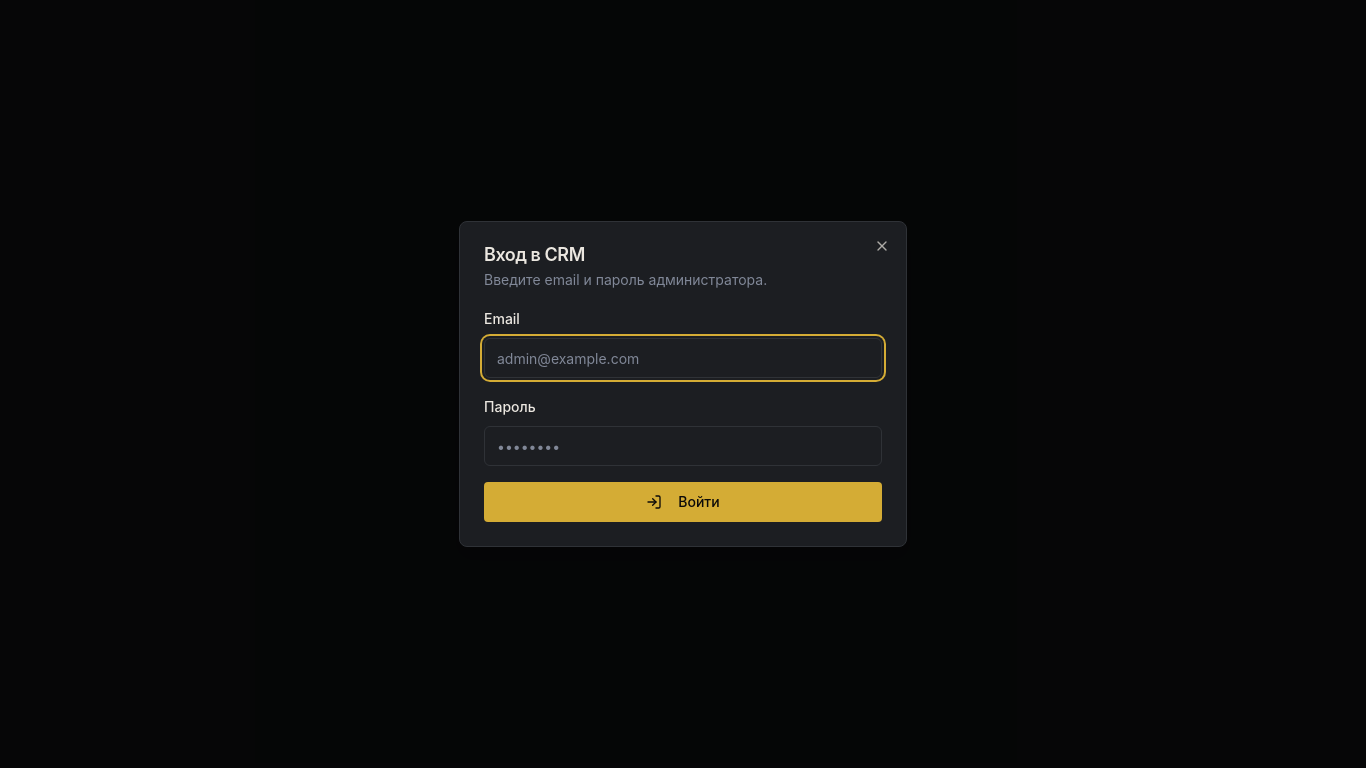
Scenario: CRM login feedback › explains a service outage without asking the user to change a correct password
Type "admin@example.test" into the field labelled "Email" at (683, 358), box [484,338,882,378]
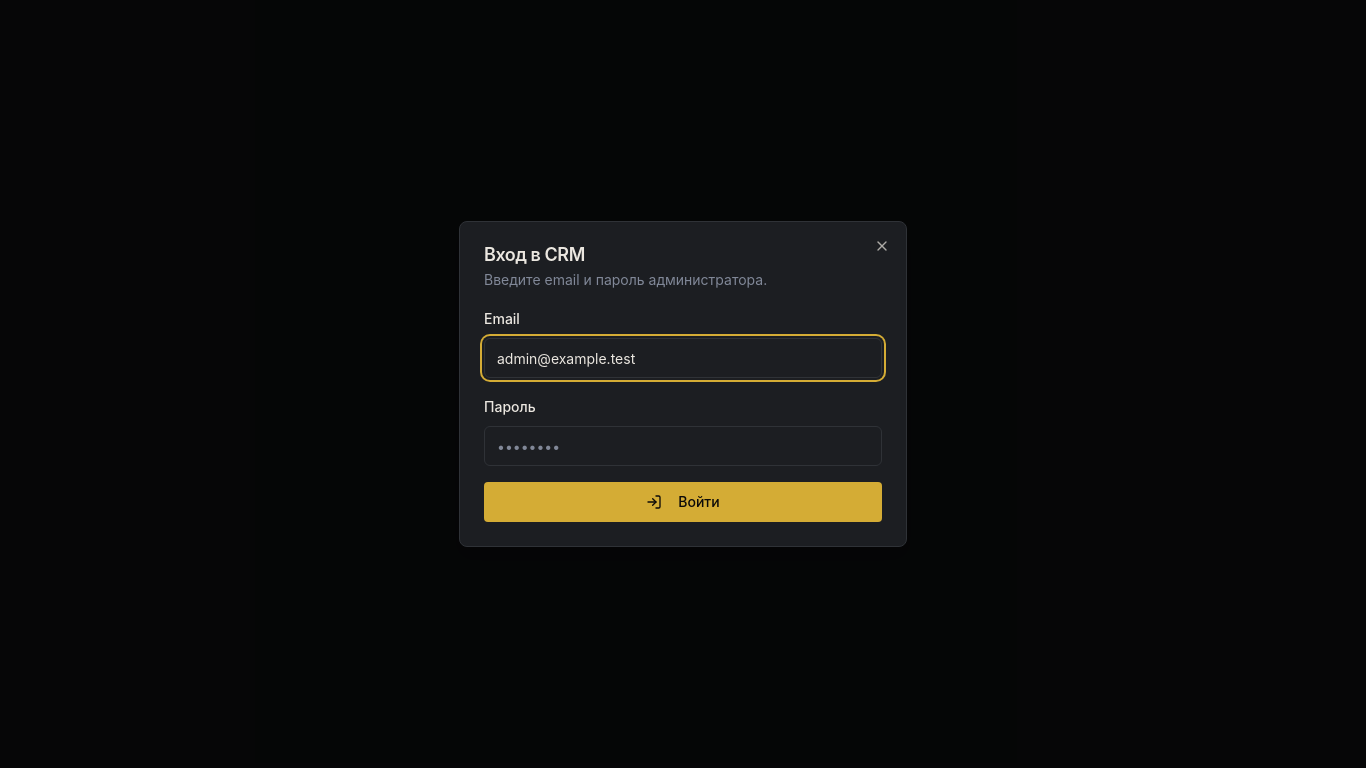
Type "test-password" into the password field labelled "Пароль" at (683, 446), box [484,426,882,466]
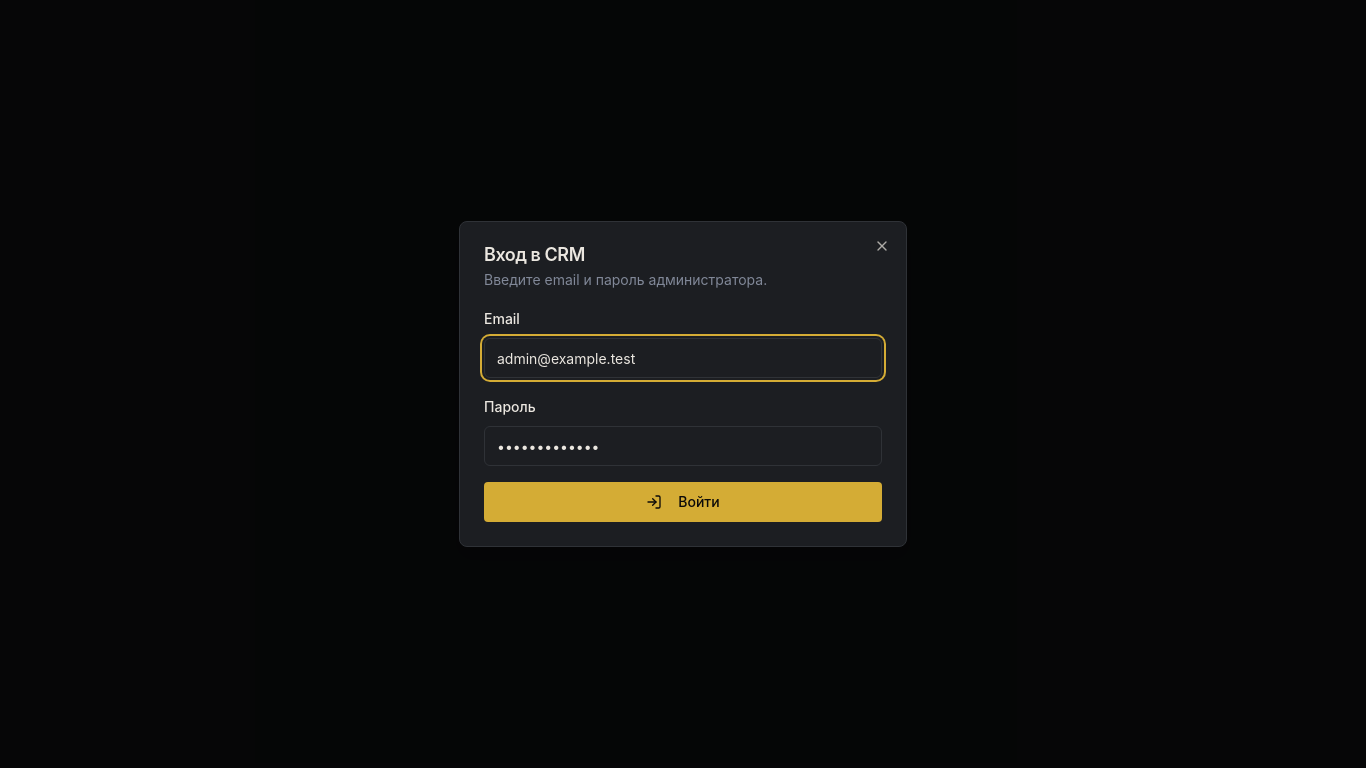
Click the button "Войти" at (683, 502), box [484,482,882,522]
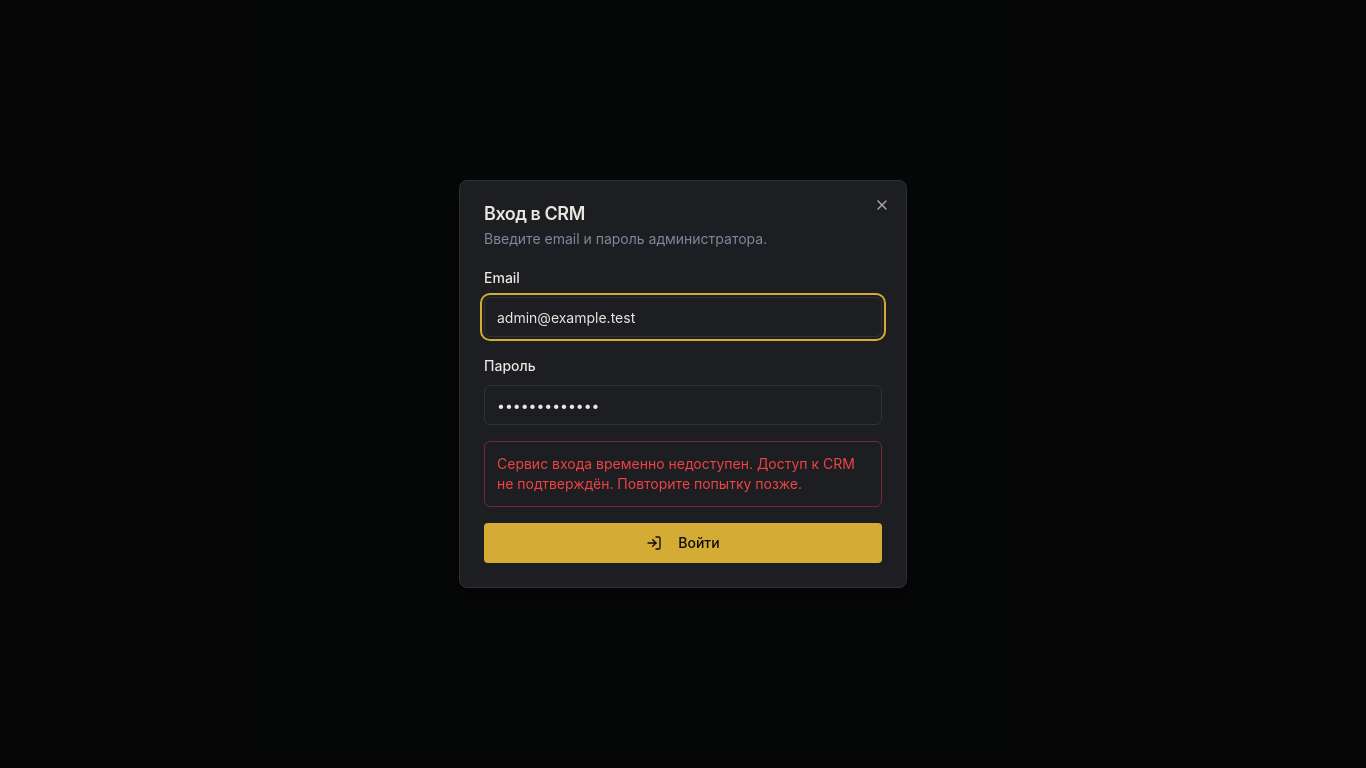
Now the message shows "Сервис входа временно недоступен", box [497,455,855,492]
